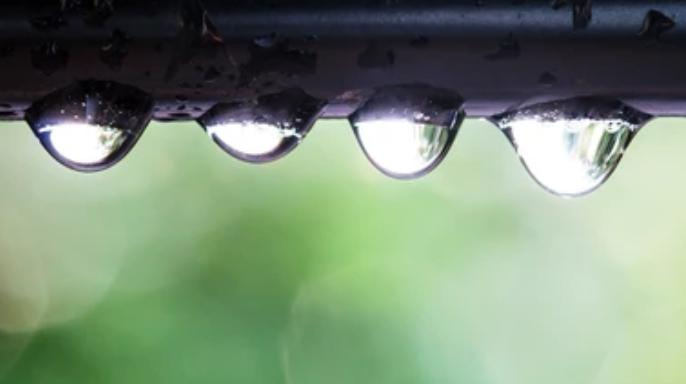water drop: (486, 96, 655, 200), (22, 76, 156, 173), (346, 80, 466, 181), (195, 89, 329, 164)
